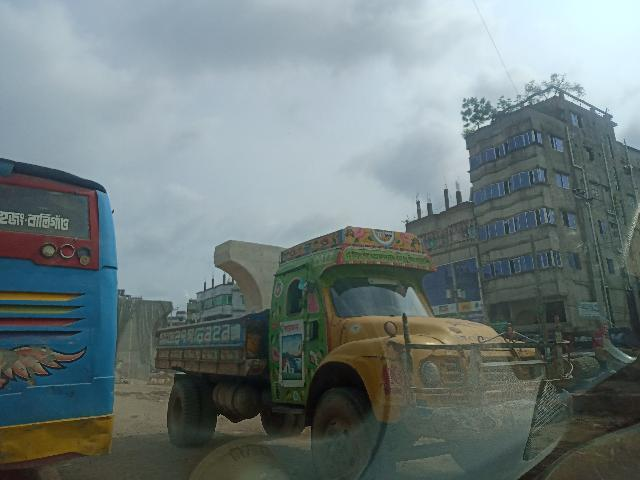bus: (0, 154, 122, 478)
truck: (154, 231, 573, 479)
